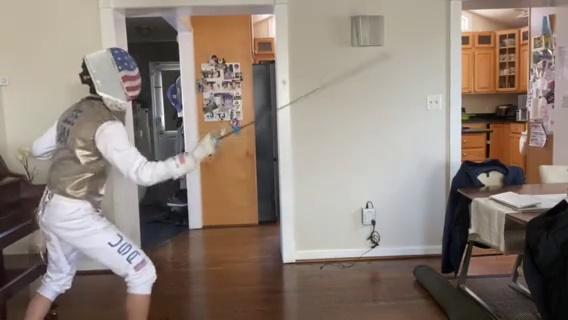blade-guard: (204, 131, 227, 149)
blade-tip: (348, 55, 393, 73)
fencing-blade: (201, 52, 392, 151)
